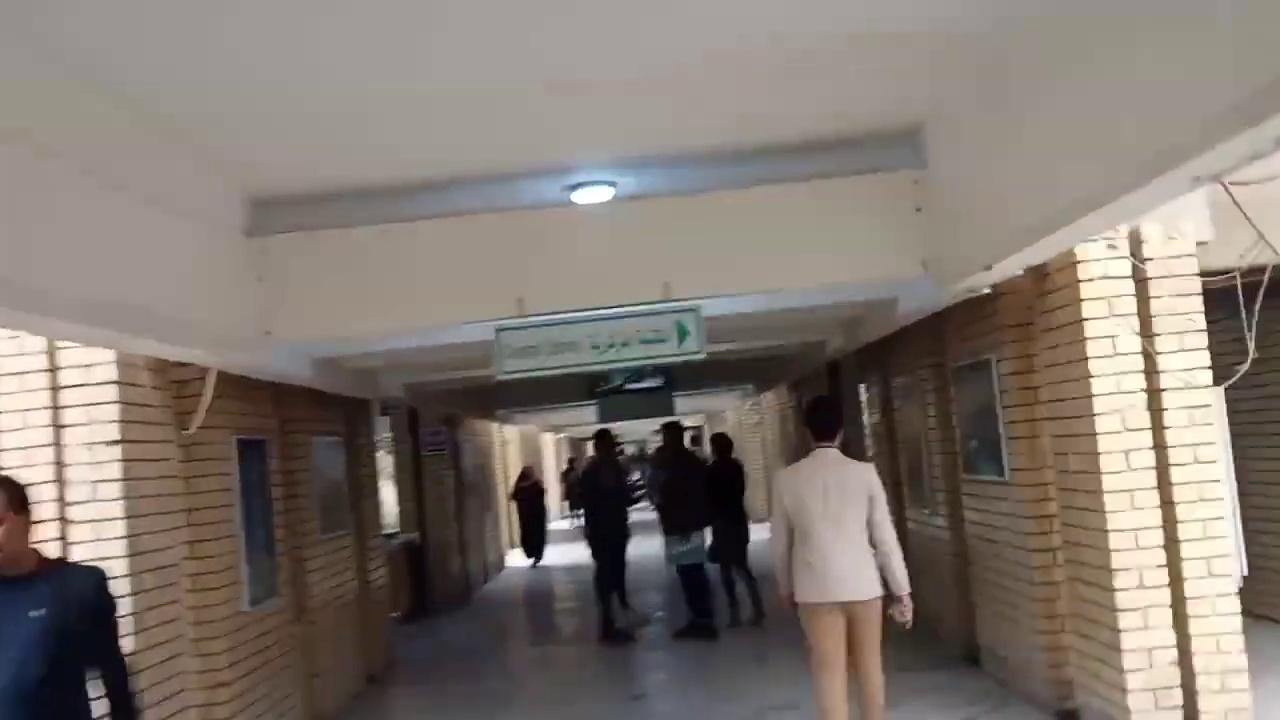person: (768, 393, 914, 719), (0, 473, 137, 719), (645, 420, 719, 640), (577, 427, 638, 645), (703, 431, 766, 627), (507, 464, 546, 567), (560, 455, 582, 522)
